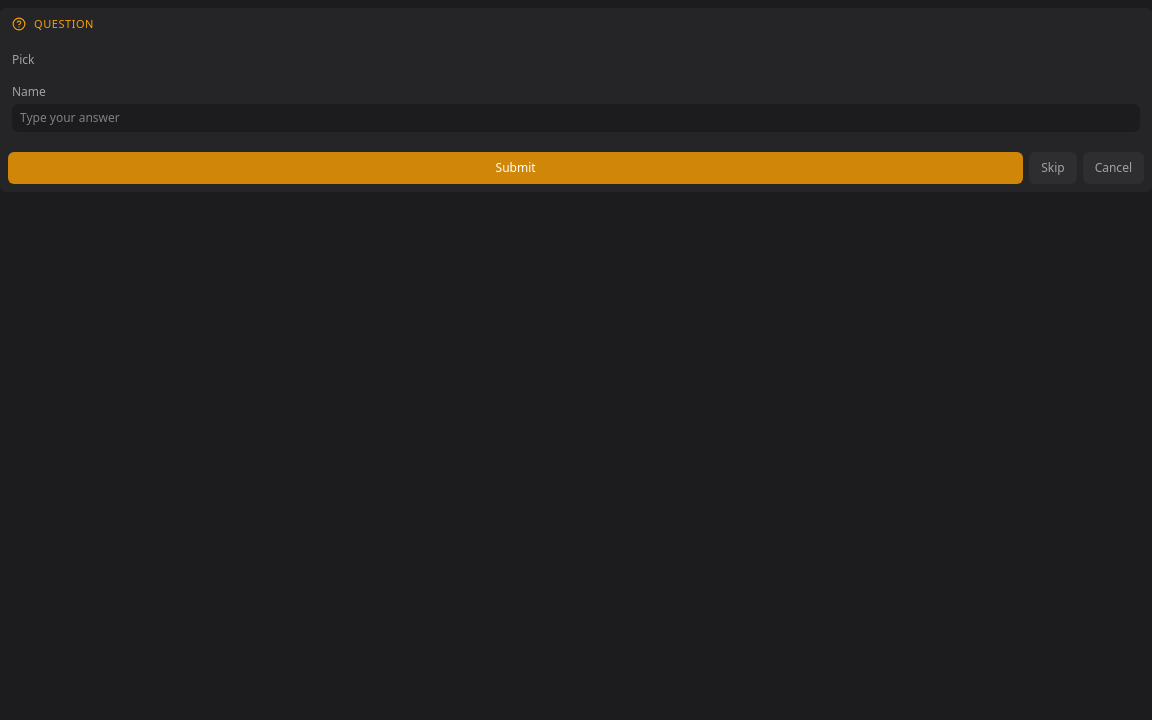
Test case: AskUserQuestionCard extended field kinds › validates free-text min length
Type "ab" into the field with placeholder "Type your answer" at (576, 118), box [12, 104, 1140, 132]
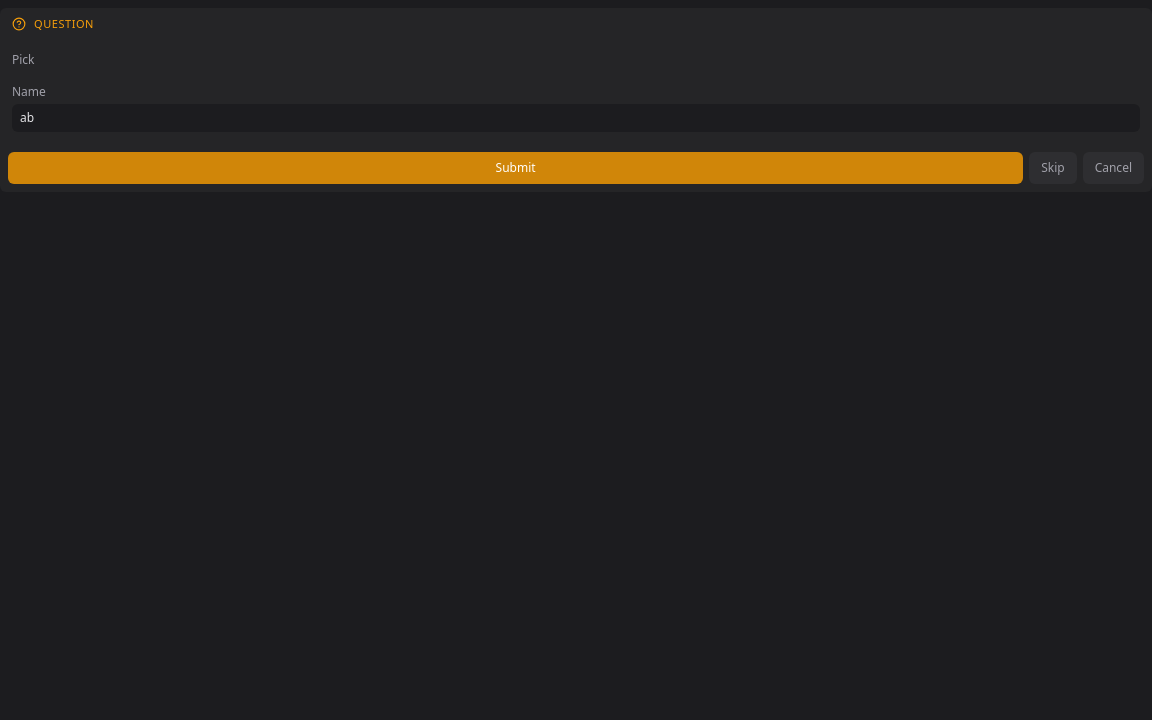
Click the button "Submit" at (516, 168), box [8, 152, 1023, 184]
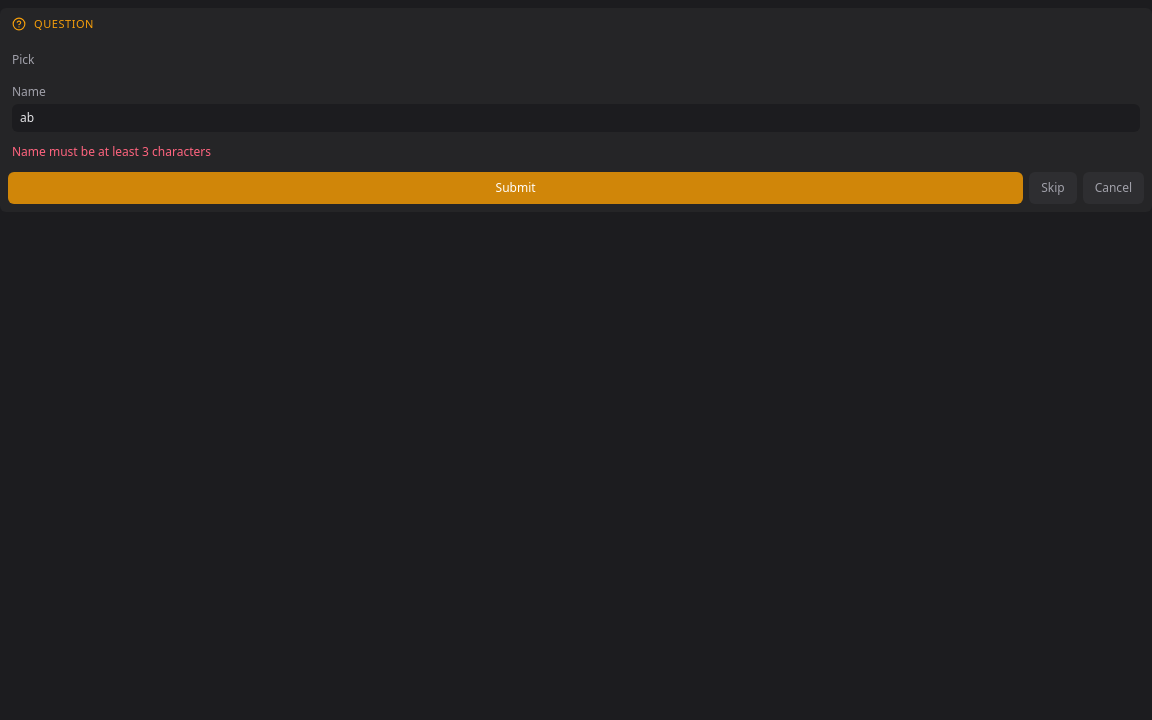
Check: the text "Name must be at least 3 characters" is shown, box [12, 143, 211, 160]
